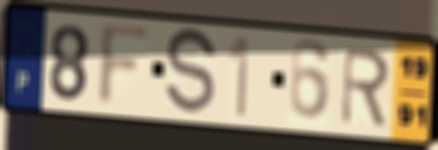1: (227, 33, 251, 121)
6: (288, 35, 334, 131)
8: (49, 23, 91, 103)
F: (94, 21, 156, 111)
R: (338, 45, 392, 130)
S: (162, 25, 220, 120)
